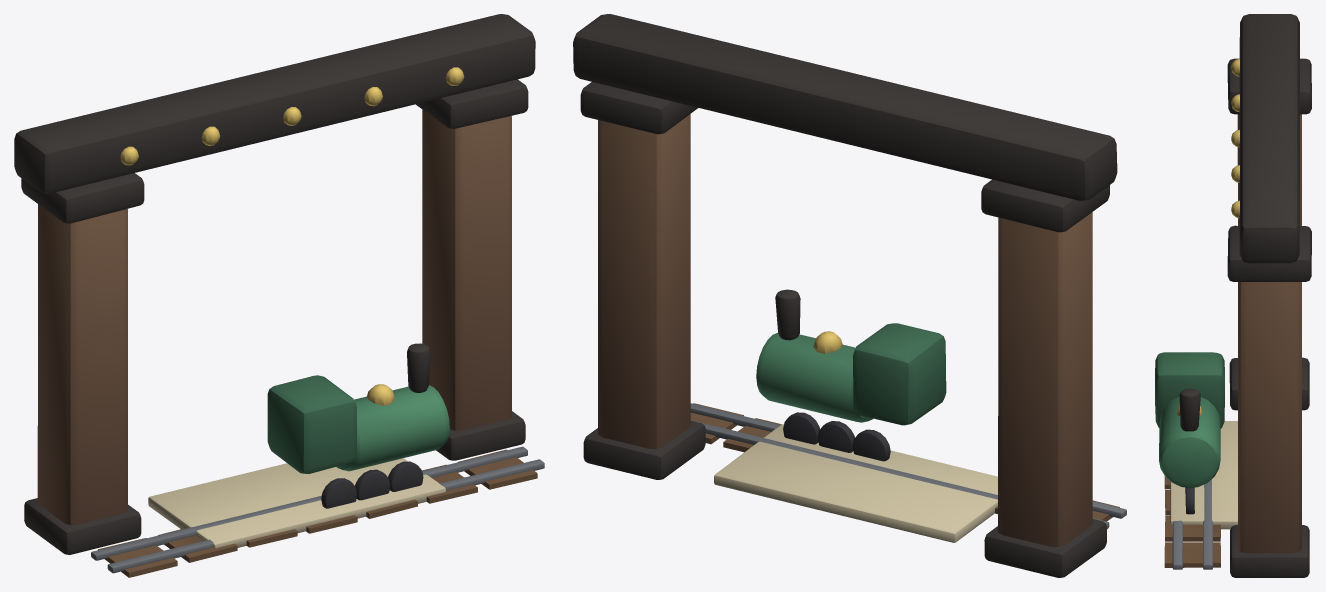
3 renders of one model, left to right at view 1: azimuth 30°, elevation 25°; view 2: azimuth 150°, elevation 25°; view 3: azimuth 270°, elevation 25°, orthographic. The views are drawn at different scales.
Visible parts, largest first — view 1: gate_40dd8bd8; view 2: gate_40dd8bd8; view 3: gate_40dd8bd8.
Part boxes in pixels (left/top/right/bottom): gate_40dd8bd8: left=14, top=14, right=544, bottom=577; gate_40dd8bd8: left=573, top=14, right=1126, bottom=577; gate_40dd8bd8: left=1155, top=14, right=1311, bottom=577.
Bounding box in the file's own units: 5.12 × 4 × 1.57.
